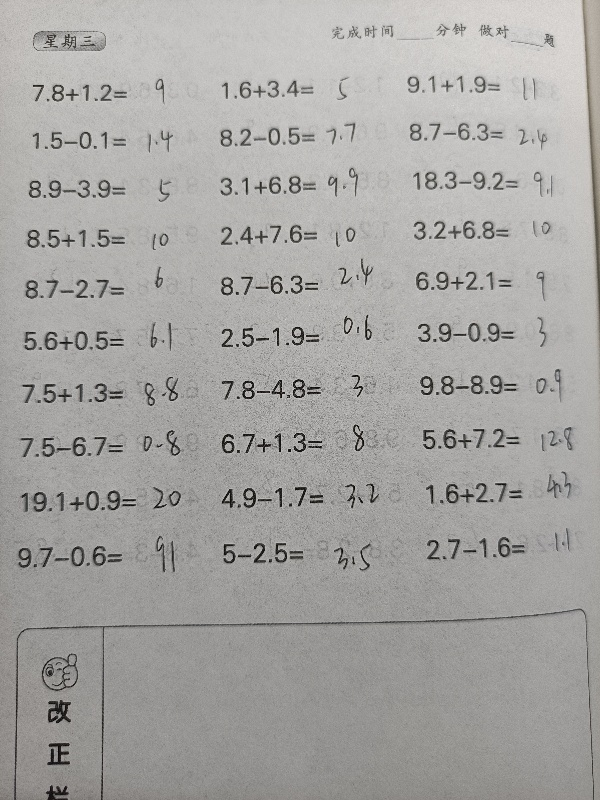equation: (212, 160, 392, 204), (214, 530, 394, 571), (212, 421, 392, 460), (8, 538, 188, 575), (417, 529, 597, 566), (416, 473, 596, 510), (11, 427, 191, 464), (11, 483, 191, 519), (212, 479, 392, 515), (414, 421, 594, 457), (14, 376, 194, 411), (212, 371, 392, 406), (410, 367, 590, 402), (16, 323, 196, 358), (212, 319, 392, 354), (409, 315, 589, 350), (17, 272, 197, 307), (211, 268, 391, 303), (404, 212, 584, 247), (407, 264, 587, 298), (19, 222, 199, 256), (211, 217, 391, 251), (20, 172, 200, 206), (406, 164, 586, 198), (211, 120, 391, 154), (401, 115, 581, 149), (24, 124, 204, 157), (25, 77, 205, 110), (214, 72, 394, 105), (399, 69, 579, 101)
